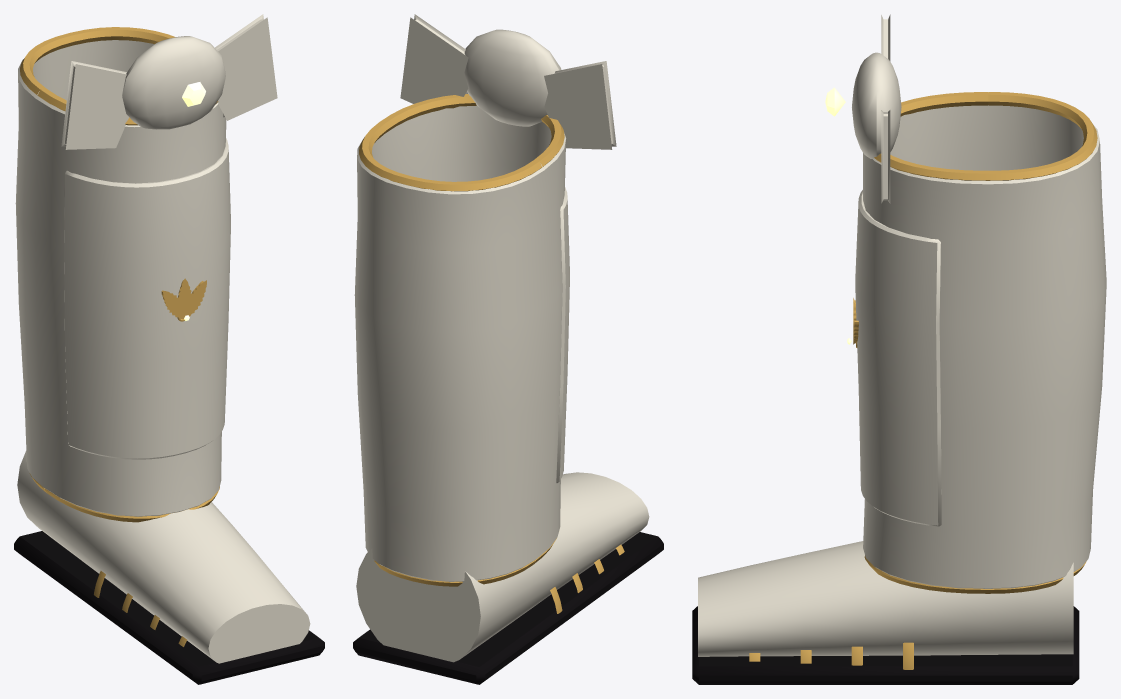
The model's file is asc_dawnward_templar_boots_R.glb.
3 renders of one model, left to right at view 1: azimuth 30°, elevation 25°; view 2: azimuth 150°, elevation 25°; view 3: azimuth 270°, elevation 25°, orthographic. The views are drawn at different scales.
Parts seen in each view (by area): view 1: asc_dawnward_templar_boots, AT_foot_R; view 2: asc_dawnward_templar_boots, AT_foot_R; view 3: asc_dawnward_templar_boots, AT_foot_R.
Part boxes in pixels (x1,y1,x2,y2): asc_dawnward_templar_boots: (15,14,277,522); AT_foot_R: (14,451,324,684); asc_dawnward_templar_boots: (354,14,616,586); AT_foot_R: (353,472,663,684); asc_dawnward_templar_boots: (825,14,1106,593); AT_foot_R: (692,541,1079,684).
Bounding box in the file's own units: 0.2244 × 0.5768 × 0.3641.
